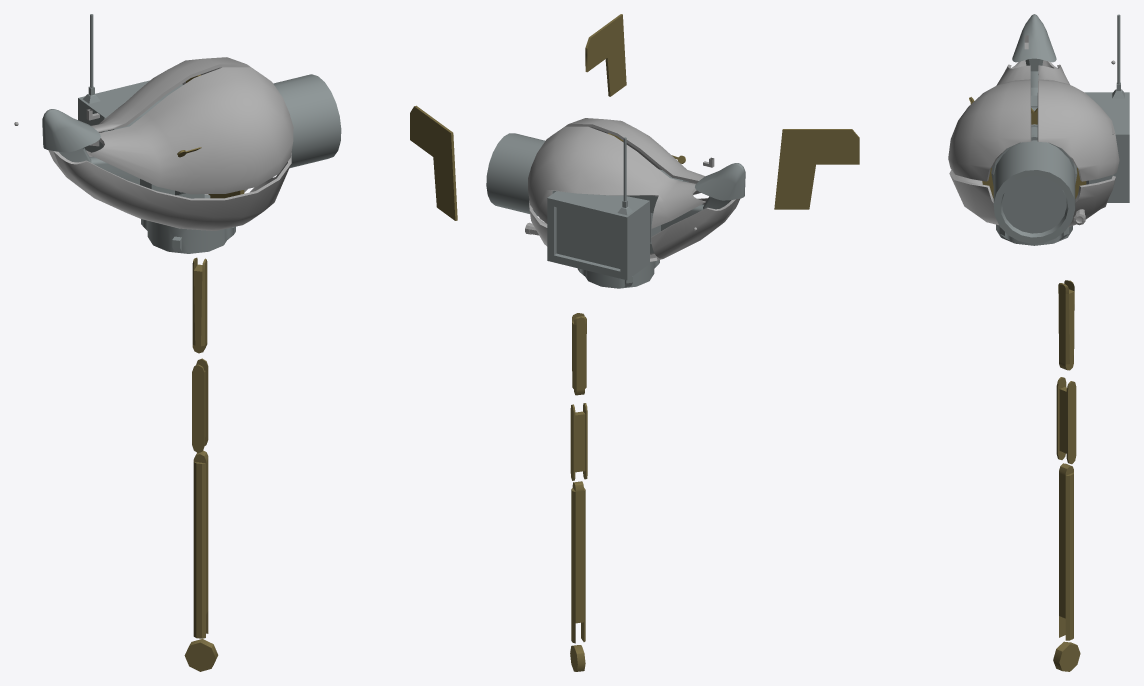
File: clement.fbx
The picture shows the model from 3 angles, left to right: view 1: azimuth 30°, elevation 25°; view 2: azimuth 150°, elevation 25°; view 3: azimuth 270°, elevation 25°; orthographic projection. The views are drawn at different scales.
Visible parts, largest first — view 1: polySurface13, polySurface20, polySurface9, pCube20, polySurface15, pCube9, pCube5, polySurface2, polySurface21, pCube19, pCube22, pCube21 (+1 smaller); view 2: polySurface15, polySurface21, polySurface9, polySurface22, polySurface19, pCube20, polySurface13, pCube9, polySurface2, pCube19, pCube22, pCube5 (+1 smaller); view 3: polySurface9, polySurface13, polySurface15, pCube9, pCube20, polySurface21, pCube19, pCube22, polySurface20, polySurface2, polySurface19, pCube21.
Part boxes in pixels (left/top/right/bottom): polySurface13: left=88, top=67, right=293, bottom=194; polySurface20: left=53, top=151, right=291, bottom=230; polySurface9: left=273, top=74, right=341, bottom=167; pCube20: left=193, top=450, right=208, bottom=638; polySurface15: left=89, top=57, right=263, bottom=146; pCube9: left=410, top=105, right=457, bottom=220; pCube5: left=141, top=194, right=235, bottom=253; polySurface2: left=42, top=109, right=100, bottom=152; polySurface21: left=78, top=80, right=182, bottom=152; pCube19: left=192, top=358, right=208, bottom=453; pCube22: left=192, top=257, right=207, bottom=353; pCube21: left=184, top=639, right=218, bottom=671; polySurface15: left=528, top=126, right=705, bottom=228; polySurface21: left=547, top=191, right=649, bottom=280; polySurface9: left=486, top=133, right=545, bottom=215; polySurface22: left=556, top=207, right=620, bottom=268; polySurface19: left=529, top=199, right=735, bottom=261; pCube20: left=571, top=481, right=585, bottom=643; polySurface13: left=553, top=118, right=704, bottom=194; pCube9: left=585, top=14, right=626, bottom=96; polySurface2: left=695, top=163, right=745, bottom=200; pCube19: left=570, top=403, right=587, bottom=480; pCube22: left=572, top=313, right=586, bottom=395; pCube5: left=577, top=260, right=659, bottom=288; polySurface9: left=993, top=140, right=1075, bottom=243; polySurface13: left=948, top=64, right=1031, bottom=181; polySurface15: left=1037, top=64, right=1119, bottom=181; pCube9: left=774, top=129, right=859, bottom=209; pCube20: left=1059, top=463, right=1073, bottom=640; polySurface21: left=1085, top=92, right=1129, bottom=202; pCube19: left=1056, top=377, right=1076, bottom=464; pCube22: left=1058, top=280, right=1074, bottom=370; polySurface20: left=949, top=60, right=1026, bottom=225; polySurface2: left=1012, top=14, right=1056, bottom=62; polySurface19: left=1042, top=60, right=1115, bottom=227; pCube21: left=1053, top=641, right=1080, bottom=671.
Bounding box in the file's own units: 72.67 × 165 × 85.78.
